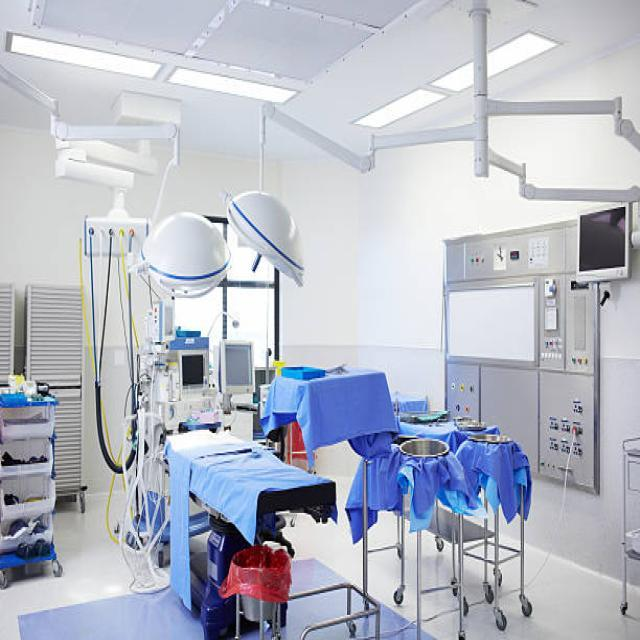Monitor: (572, 204, 632, 294), (170, 339, 212, 388)
bed: (151, 393, 338, 640)
bin: (216, 528, 301, 640)
tools_table: (262, 355, 398, 640), (463, 417, 558, 639), (378, 412, 461, 640), (0, 355, 60, 607)
